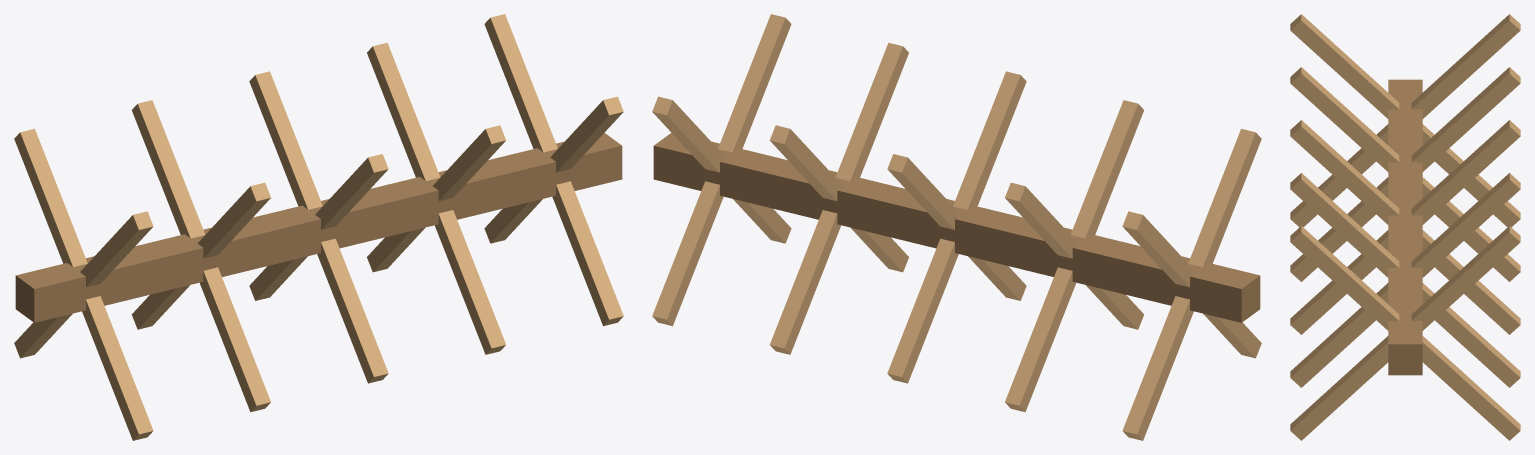
File: cheval-de-frise.glb
3 renders of one model, left to right at view 1: azimuth 30°, elevation 25°; view 2: azimuth 150°, elevation 25°; view 3: azimuth 270°, elevation 25°, orthographic. The views are drawn at different scales.
Parts seen in each view (by area): view 1: cheval-de-frise; view 2: cheval-de-frise; view 3: cheval-de-frise.
Boxes of the visible parts, x1,y1,x2,y2 form: cheval-de-frise: (14,14,623,440); cheval-de-frise: (652,14,1261,440); cheval-de-frise: (1290,14,1520,440).
Size of the model in its own units: 4 by 1.47 by 1.47.
